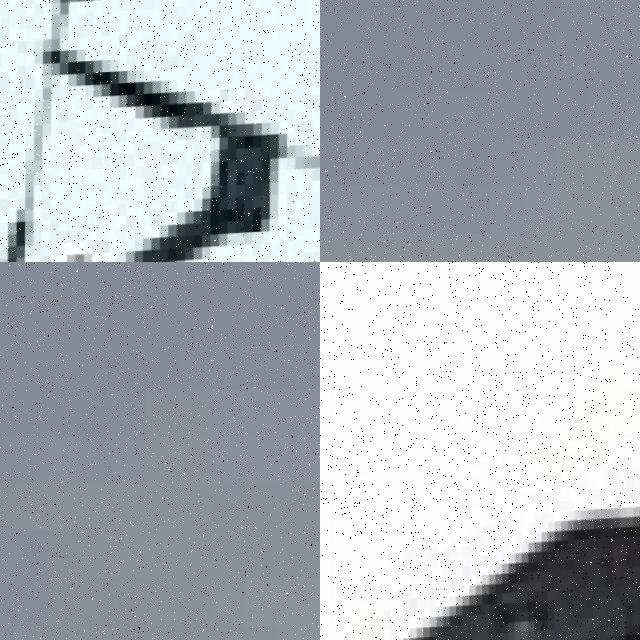drone: (0, 0, 320, 262), (320, 379, 640, 640)
